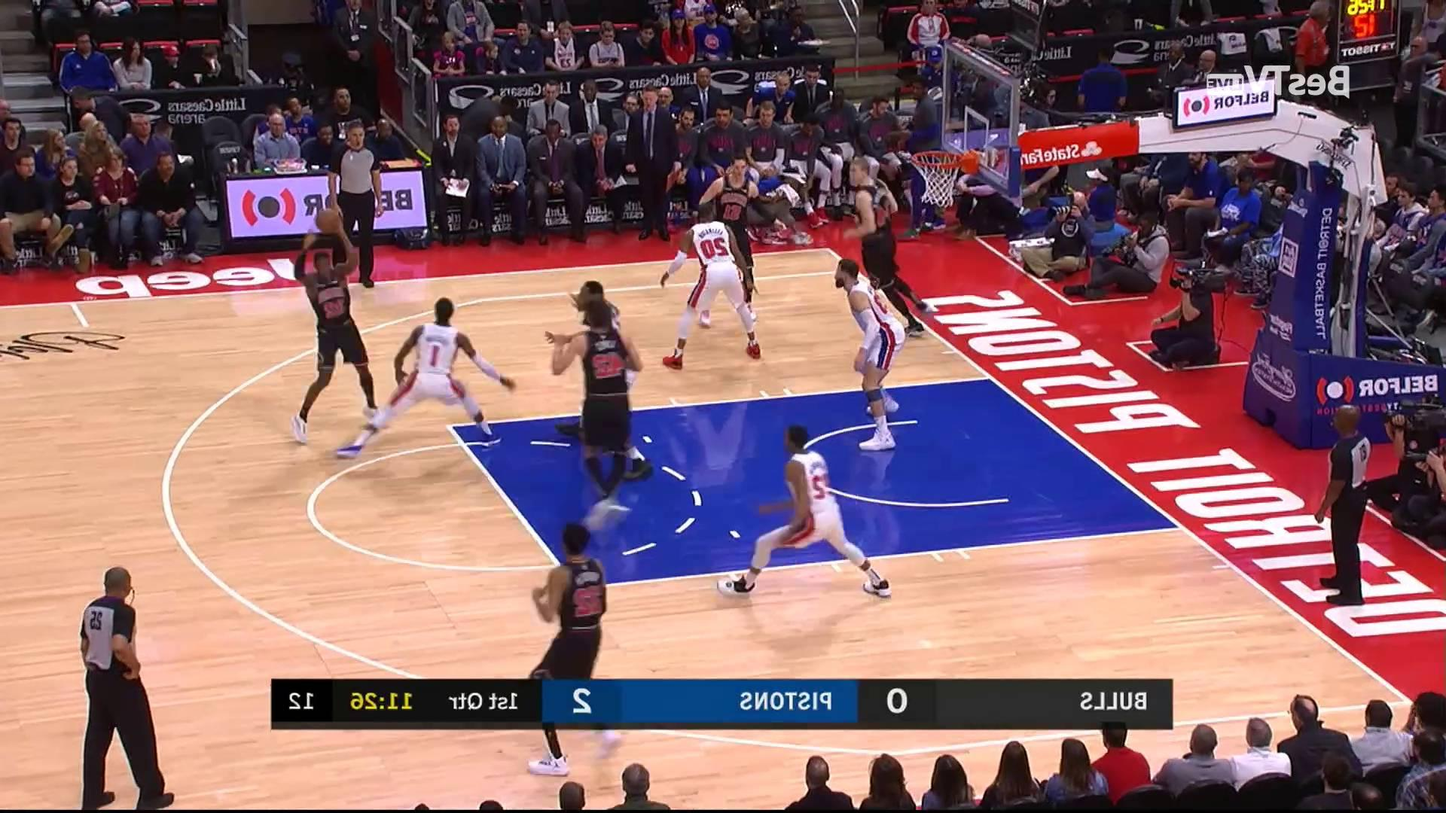basketball: (315, 208, 340, 233)
